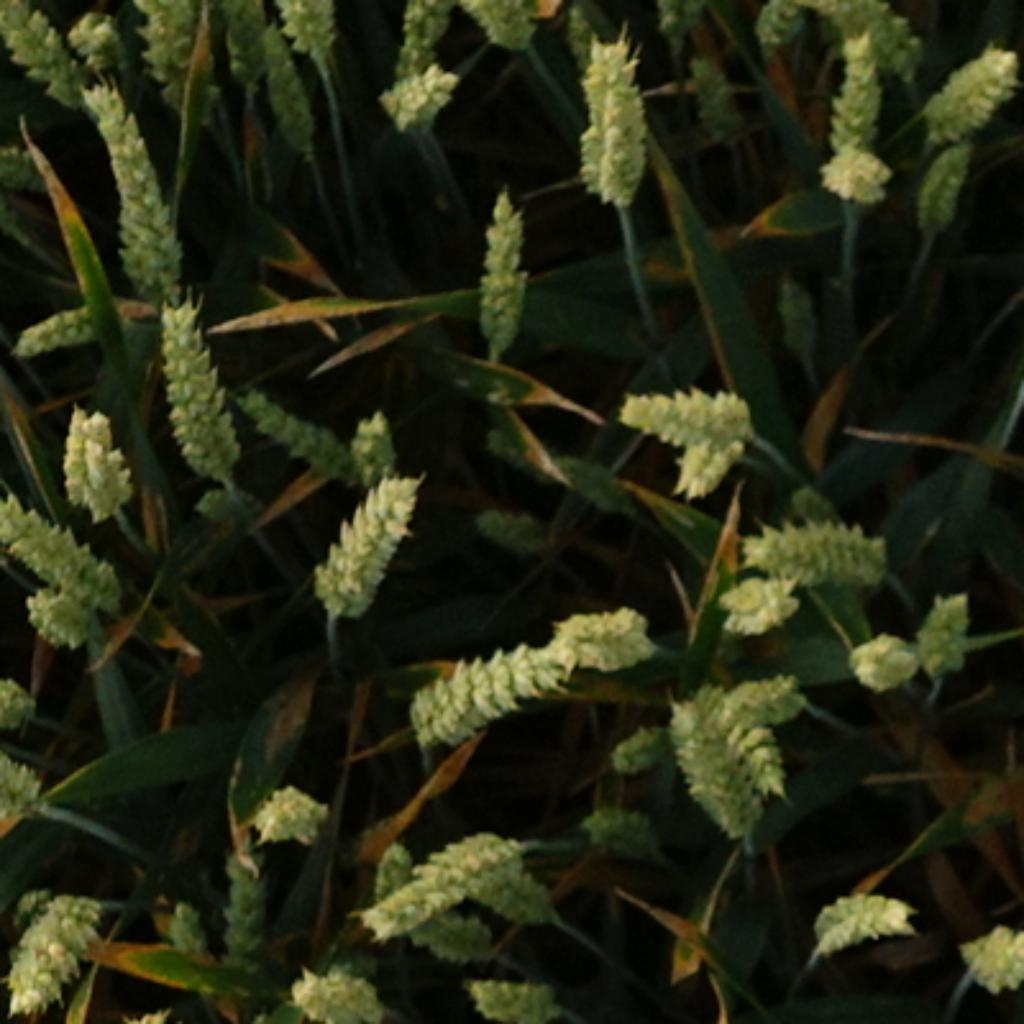0-0: (79, 79, 202, 299), (394, 616, 593, 747), (657, 660, 798, 832), (368, 808, 550, 934), (299, 458, 427, 614), (143, 291, 245, 473), (568, 17, 663, 204), (2, 875, 112, 1011), (240, 376, 381, 481), (2, 491, 122, 609), (611, 355, 762, 448), (739, 501, 893, 586), (2, 2, 117, 112), (122, 2, 225, 120), (250, 5, 322, 168), (468, 189, 537, 350), (919, 33, 1024, 138), (424, 842, 560, 919), (53, 396, 138, 514), (819, 30, 896, 158), (901, 140, 983, 256), (209, 844, 284, 970), (806, 872, 919, 949), (796, 2, 921, 71), (12, 279, 125, 355), (547, 591, 657, 668), (286, 949, 386, 1024), (373, 46, 463, 128), (17, 581, 107, 660), (463, 957, 565, 1024), (903, 583, 975, 670), (212, 2, 273, 104), (248, 768, 335, 839), (716, 555, 801, 627), (670, 435, 752, 509), (396, 906, 501, 962), (704, 665, 806, 721), (844, 619, 929, 686), (814, 125, 893, 197), (954, 906, 1024, 985), (767, 253, 818, 361), (156, 883, 217, 972), (371, 839, 424, 939), (70, 9, 136, 86), (578, 793, 663, 852), (261, 2, 345, 61), (350, 404, 401, 496), (689, 45, 739, 136), (465, 499, 547, 552), (473, 2, 540, 61), (606, 719, 670, 780), (2, 757, 56, 829), (394, 2, 448, 64), (745, 0, 799, 62), (94, 983, 166, 1024), (2, 675, 53, 727)
